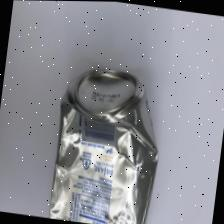metal: (32, 60, 177, 224)
